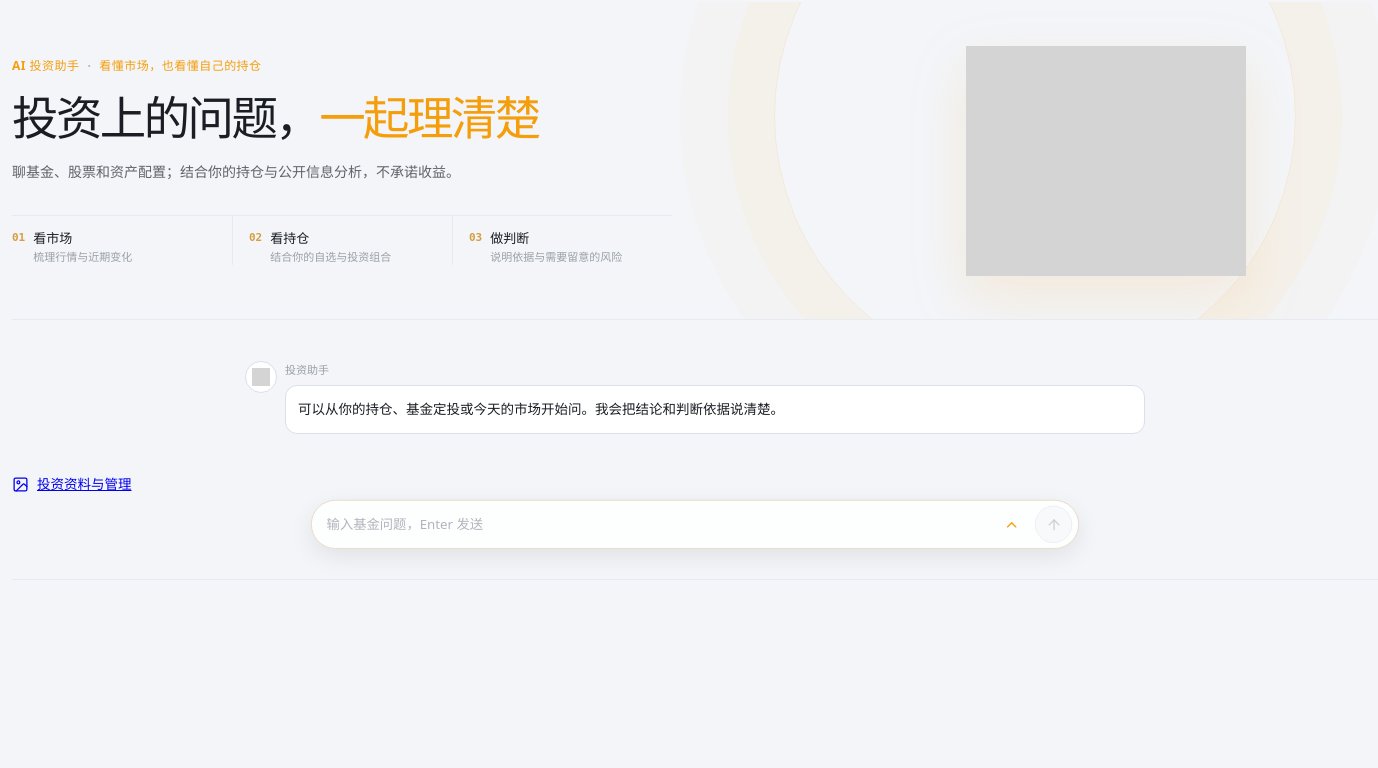
Investment assistant chat › can stop a streaming investment analysis request
In the text box named "基金分析输入框": (657, 524) [327,507,988,542], type "美国"
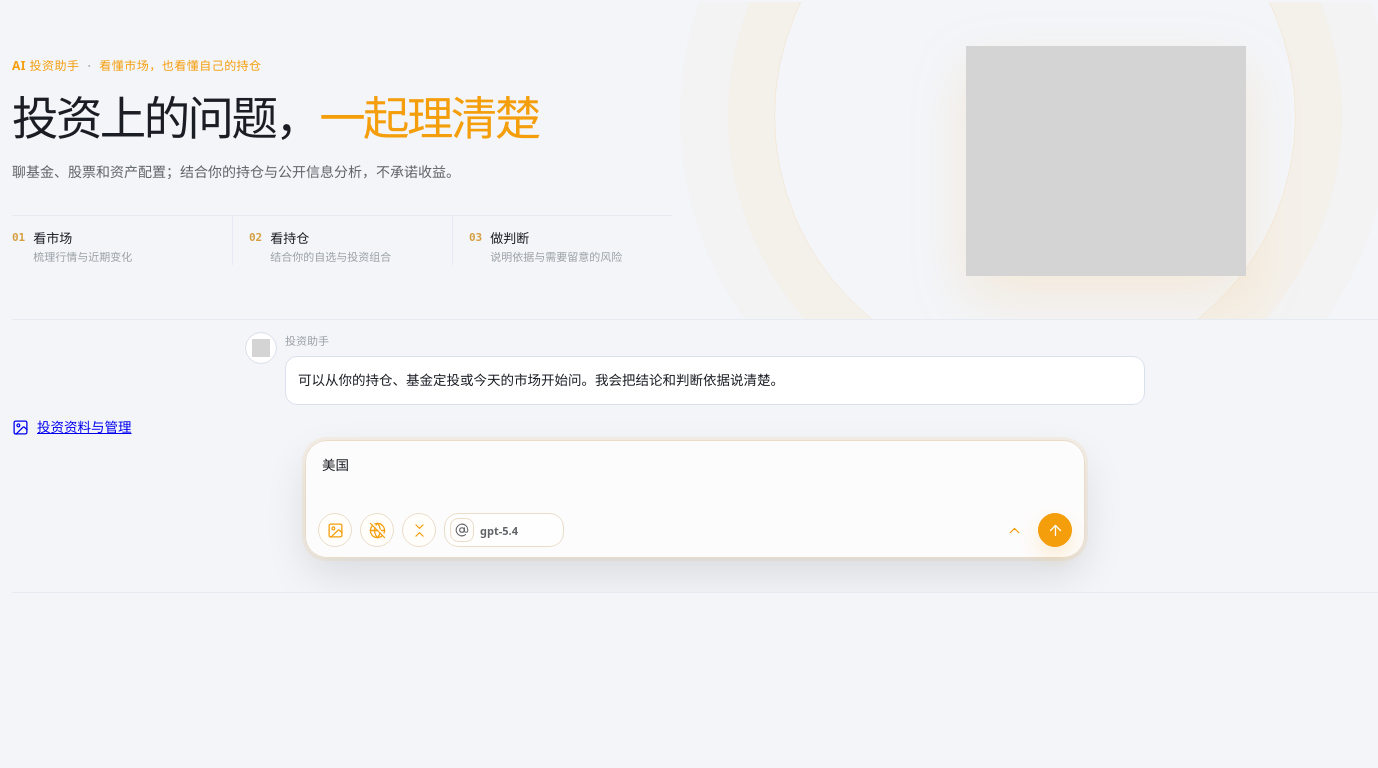
Click the button named "开始分析": (1055, 530) [1038,513,1072,547]
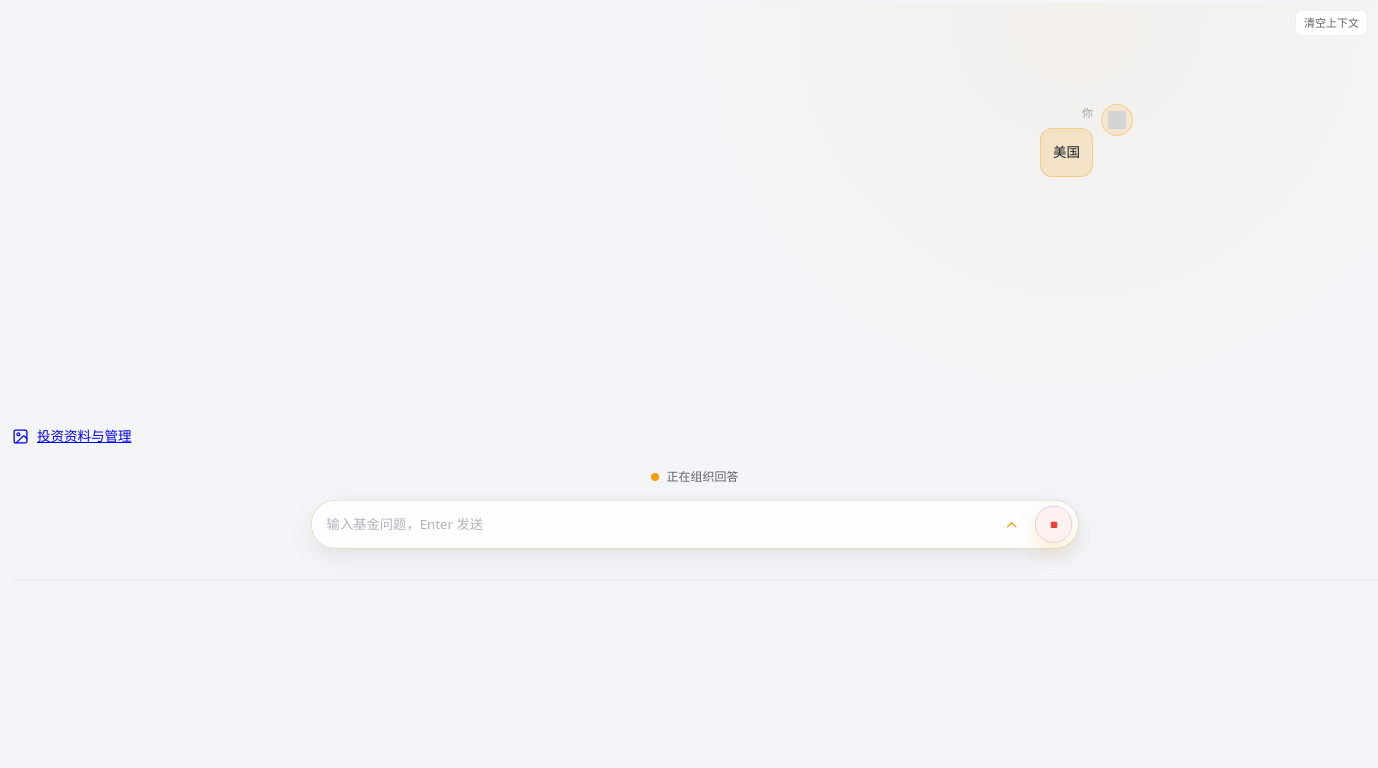
Check: the button named "停止生成" is shown
Click the button named "停止生成": (1054, 524) [1035,506,1072,543]
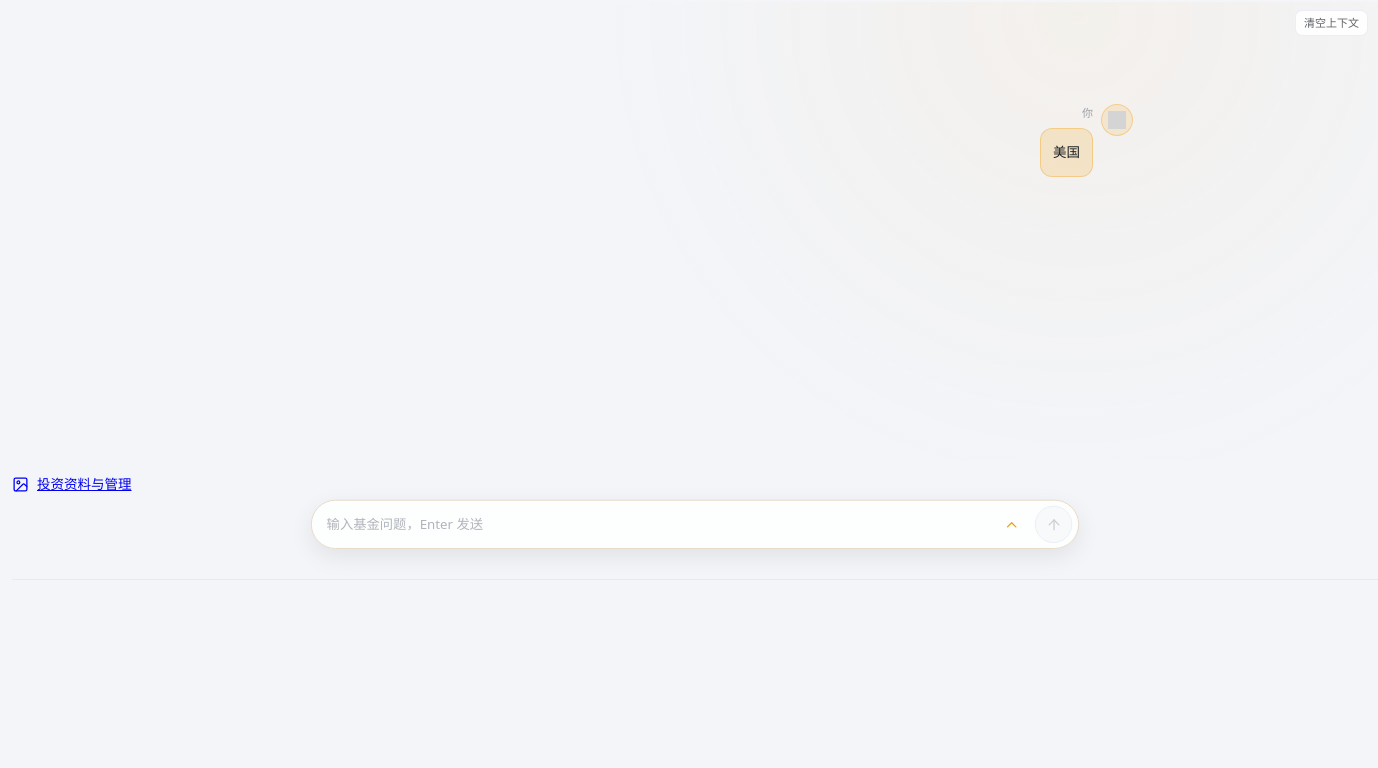
Check: the button named "开始分析" is shown, box [1035,506,1072,543]
